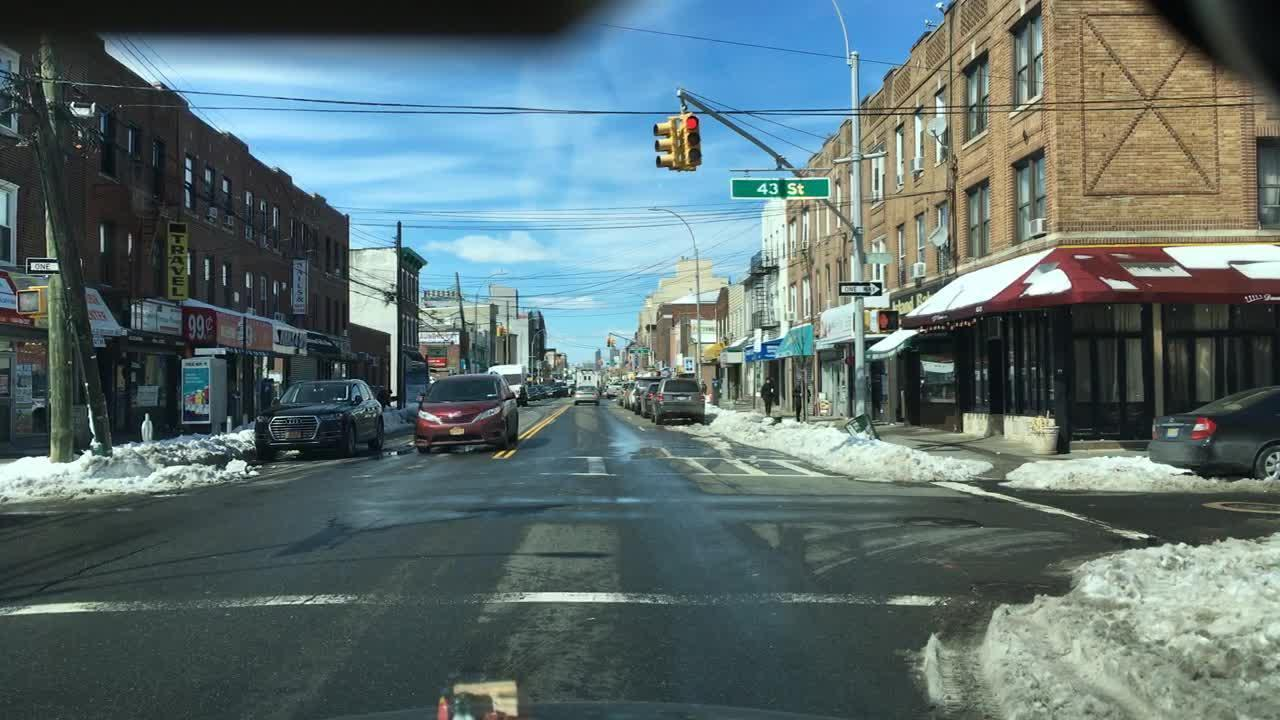Audi: (284, 418, 305, 426)
